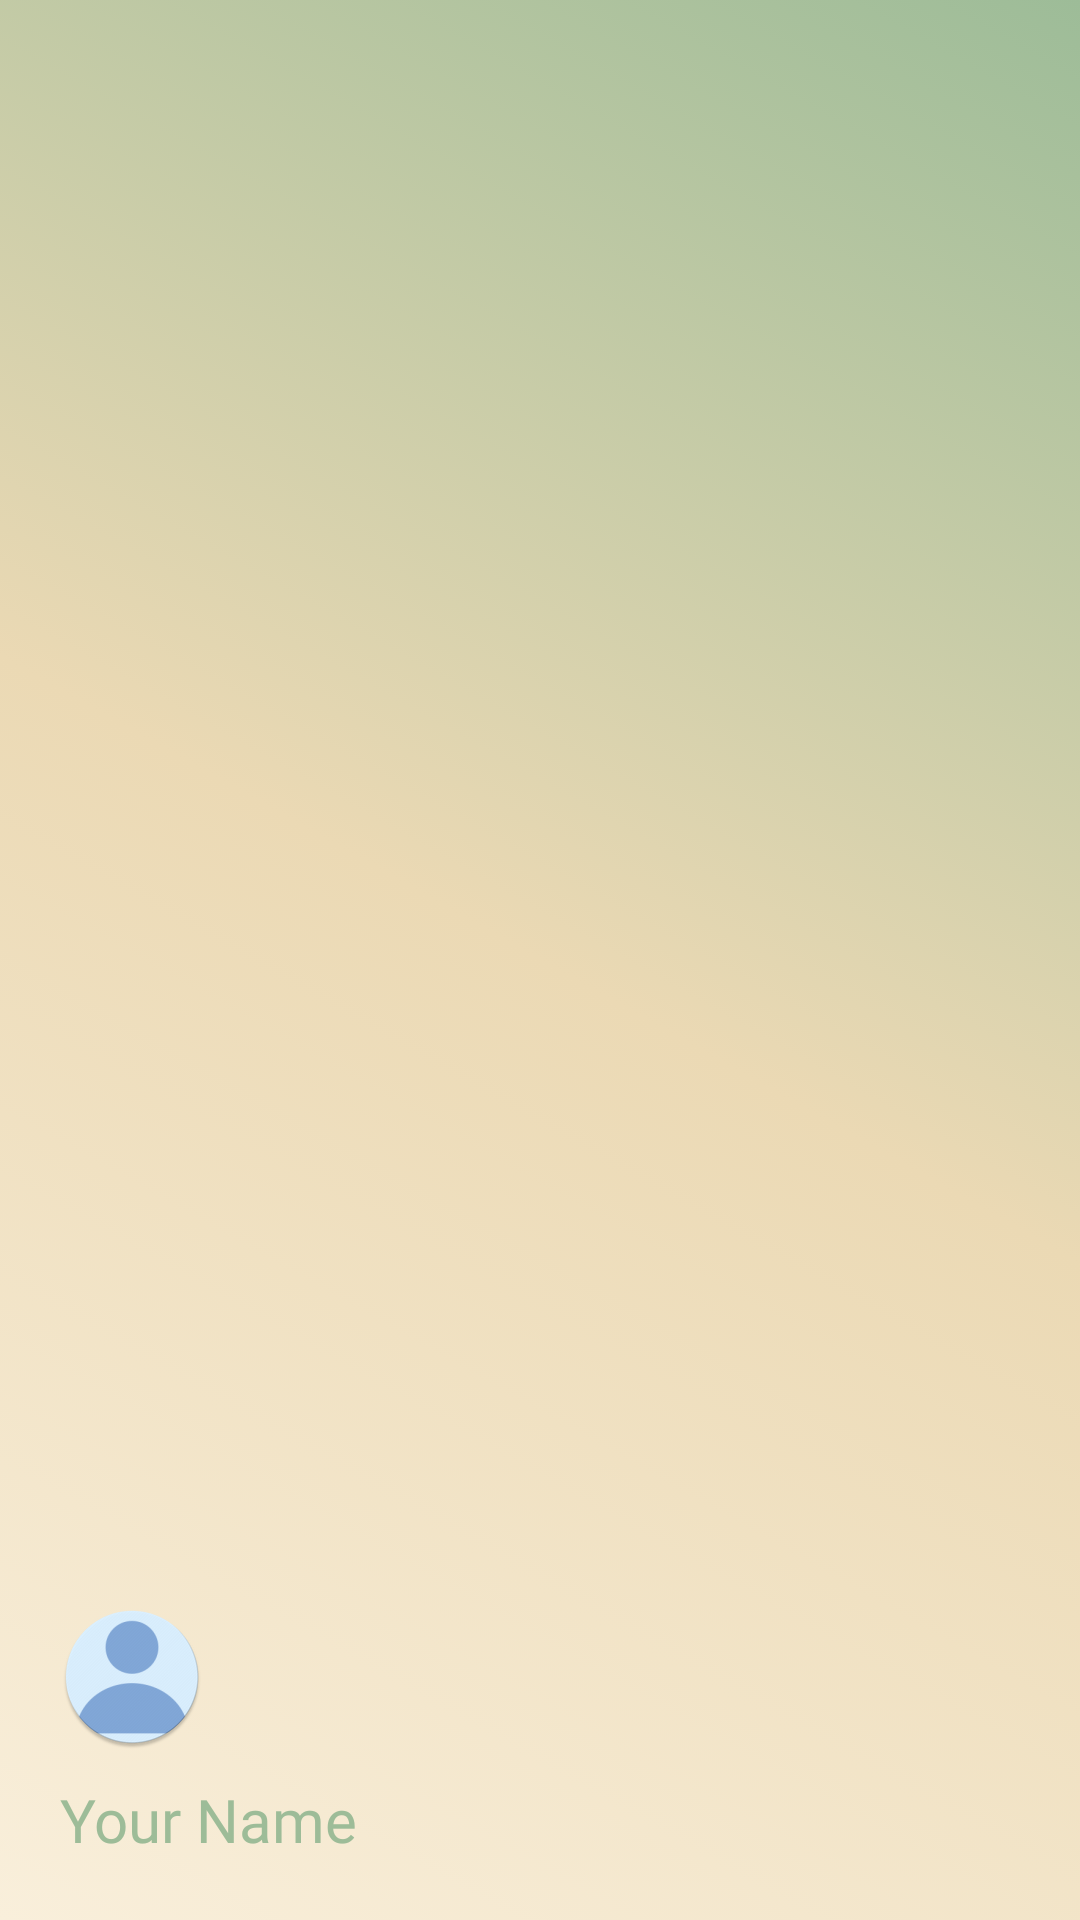

Where icons sit on this 1080 x 1920 app screen, as detection(x1, y1, x2, y2):
profile round: detection(66, 1611, 199, 1746)
